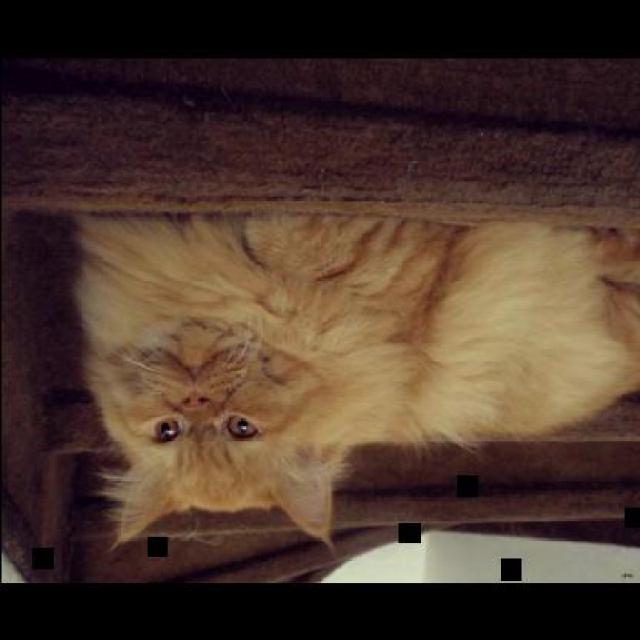unauthorized: (64, 204, 638, 556)
